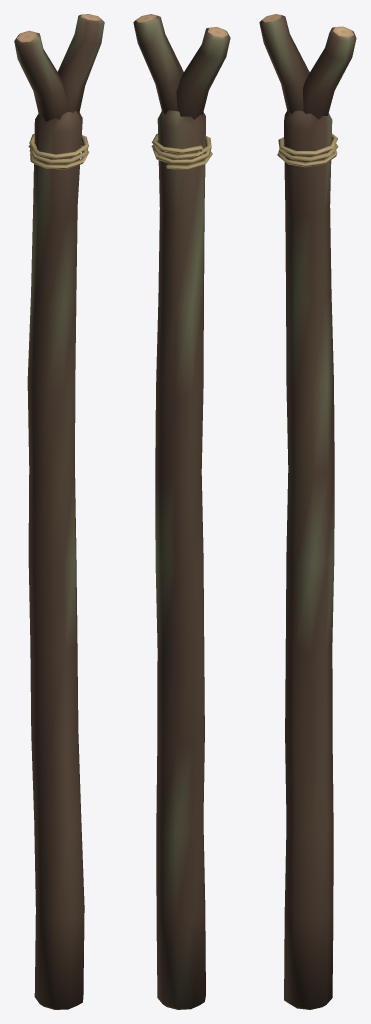
The model's file is post.glb.
3 views of the same model, side by side, from view 1: azimuth 30°, elevation 25°; view 2: azimuth 150°, elevation 25°; view 3: azimuth 330°, elevation 25° (orthographic).
Visible parts, largest first — view 1: Part_00, Part_01; view 2: Part_00, Part_01; view 3: Part_00, Part_01.
Part boxes in pixels (bbox=[...]): Part_00: bbox=[14, 14, 104, 1009]; Part_01: bbox=[28, 133, 89, 169]; Part_00: bbox=[133, 14, 230, 1009]; Part_01: bbox=[151, 133, 212, 169]; Part_00: bbox=[259, 14, 356, 1009]; Part_01: bbox=[277, 133, 338, 167].
Size of the model in its own units: 0.2114 by 2.23 by 0.13.
